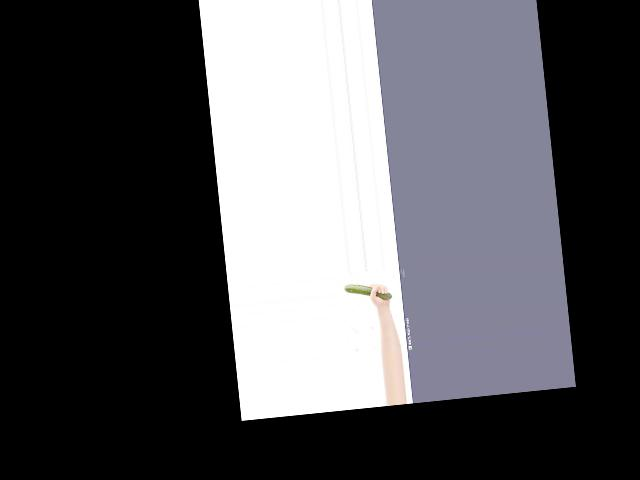cucumber: (344, 279, 392, 302)
